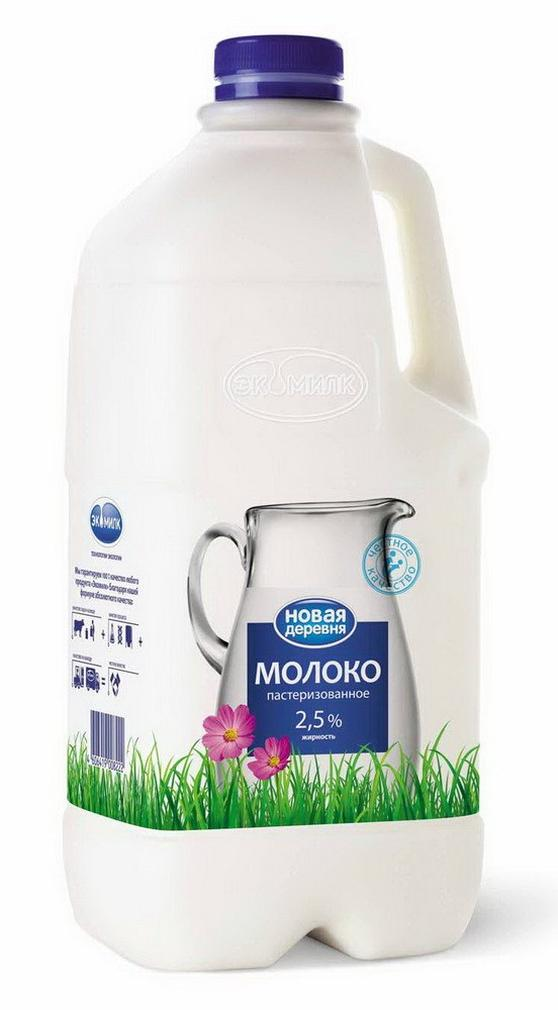milk: (67, 41, 487, 970)
